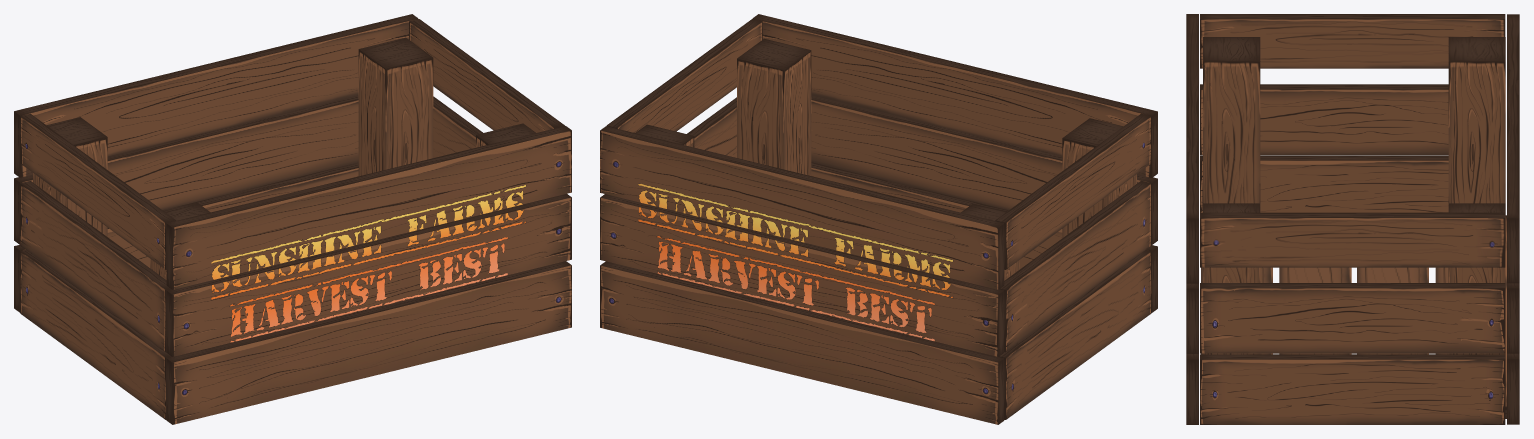
The model's file is FruitCrate.gltf.
The picture shows the model from 3 angles, left to right: view 1: azimuth 30°, elevation 25°; view 2: azimuth 150°, elevation 25°; view 3: azimuth 270°, elevation 25°; orthographic projection. The views are drawn at different scales.
Visible parts, largest first — view 1: Fruit Crate; view 2: Fruit Crate; view 3: Fruit Crate.
Boxes of the visible parts, box(x1,y1,x2,y2) form: Fruit Crate: box(14, 14, 571, 424); Fruit Crate: box(600, 14, 1157, 424); Fruit Crate: box(1186, 14, 1519, 424).
Size of the model in its own units: 13.41 by 6.33 by 9.24.
1 material, 1 textured.
